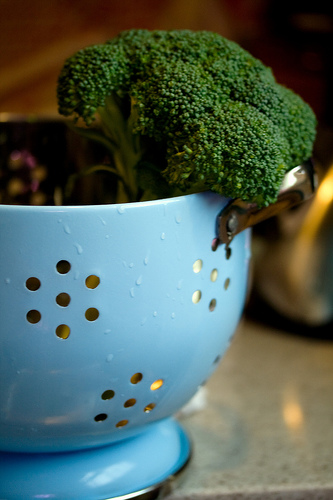broccoli: (50, 27, 317, 203)
